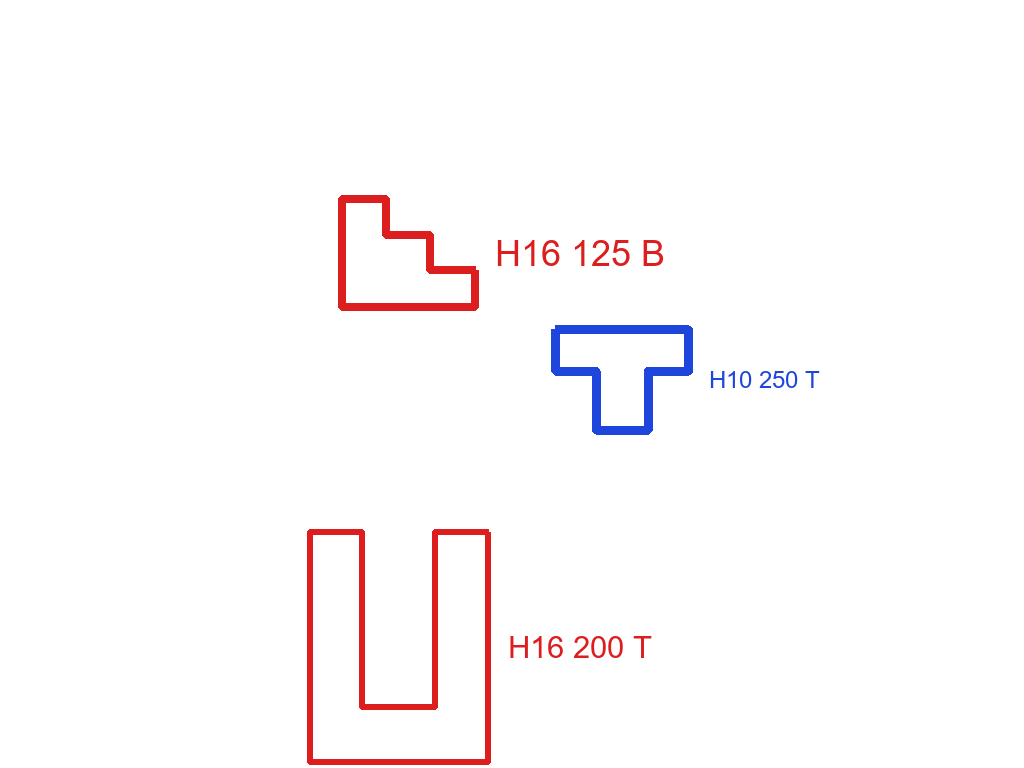shape: (304, 528, 493, 767), (335, 193, 481, 312), (549, 323, 695, 437)
text: (493, 238, 667, 268), (506, 634, 654, 660), (707, 369, 822, 390)
